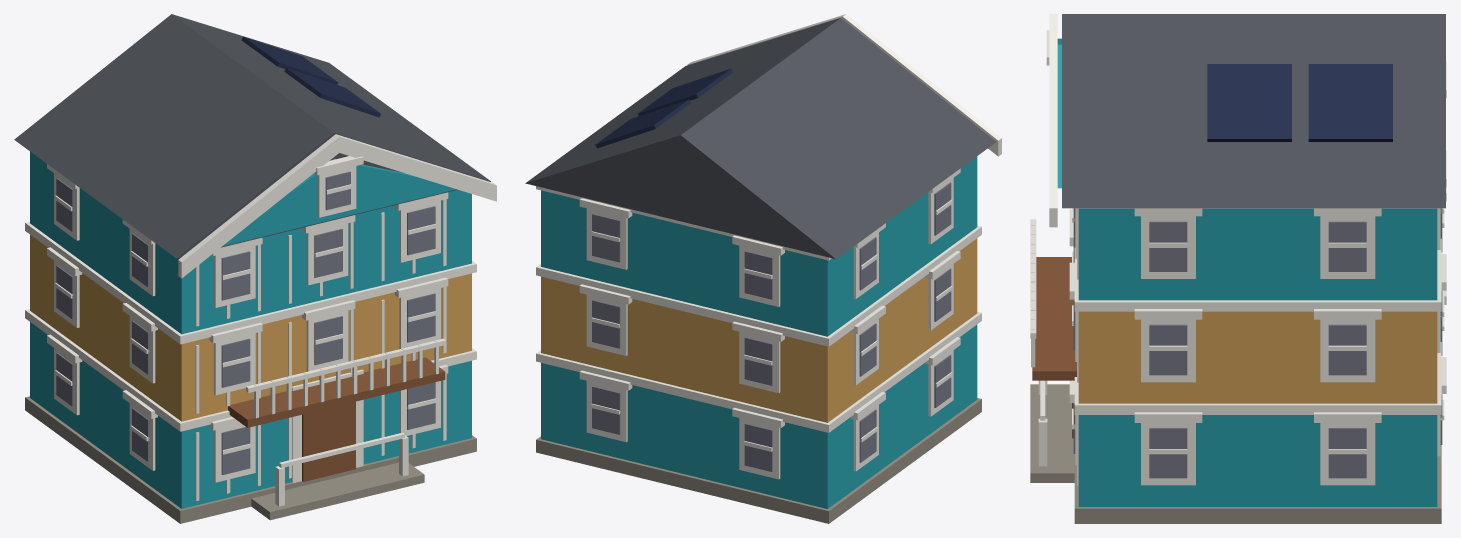
Rendered from house-1x1-3f-valparaiso-a-solar.glb.
3 views of the same model, side by side, from view 1: azimuth 30°, elevation 25°; view 2: azimuth 150°, elevation 25°; view 3: azimuth 270°, elevation 25° (orthographic). The views are drawn at different scales.
Parts seen in each view (by area): view 1: house-1x1-3f-valparaiso-a-solar; view 2: house-1x1-3f-valparaiso-a-solar; view 3: house-1x1-3f-valparaiso-a-solar.
Boxes of the visible parts, x1,y1,x2,y2 form: house-1x1-3f-valparaiso-a-solar: [14, 14, 496, 523]; house-1x1-3f-valparaiso-a-solar: [525, 14, 1001, 523]; house-1x1-3f-valparaiso-a-solar: [1030, 14, 1446, 523].
Size of the model in its own units: 1.02 by 1.11 by 0.987.
Materials: 1 (1 with a texture image).
